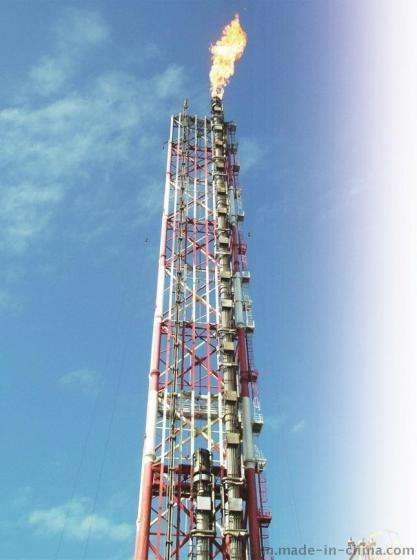fire: (208, 10, 247, 104)
